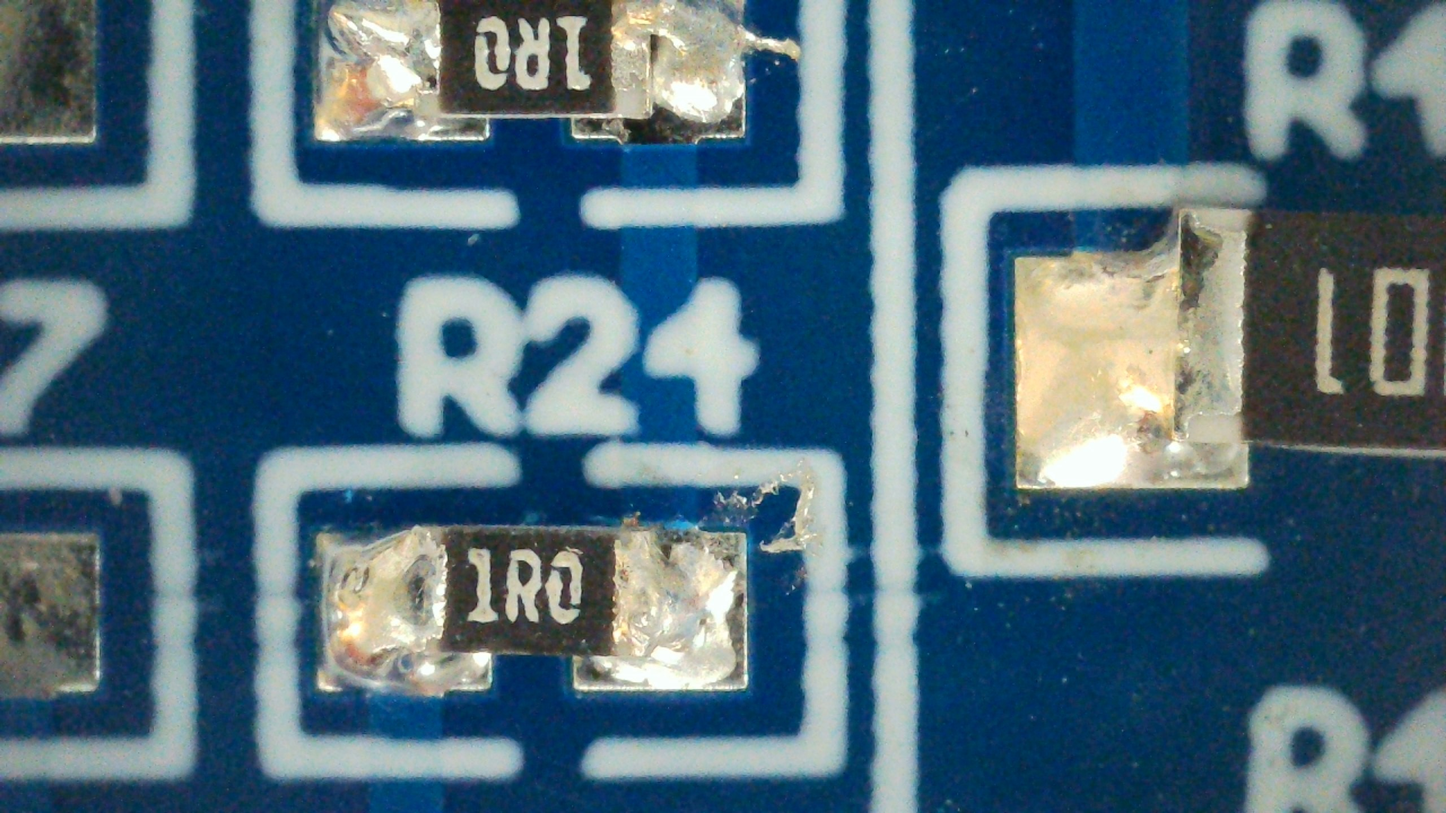NG: (320, 524, 746, 700)
